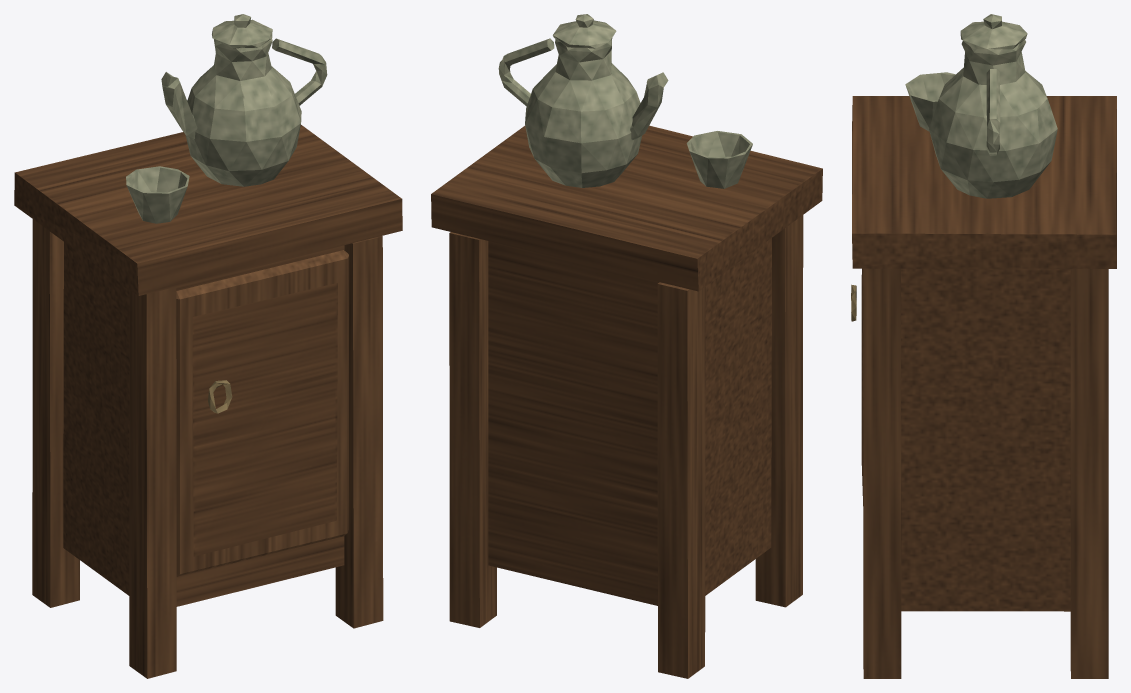
Rendered from WakeTeaStand_LOD2.fbx.
The picture shows the model from 3 angles, left to right: view 1: azimuth 30°, elevation 25°; view 2: azimuth 150°, elevation 25°; view 3: azimuth 270°, elevation 25°; orthographic projection. The views are drawn at different scales.
Visible parts, largest first — view 1: WakeTeaStand.001; view 2: WakeTeaStand.001; view 3: WakeTeaStand.001.
Part boxes in pixels (left/top/right/bottom): WakeTeaStand.001: left=14, top=14, right=402, bottom=678; WakeTeaStand.001: left=431, top=14, right=822, bottom=678; WakeTeaStand.001: left=851, top=14, right=1116, bottom=678.
Bounding box in the file's own units: 0.4398 × 0.9209 × 0.3565.
Materials: 1 (1 with a texture image).
